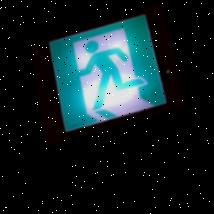emergency_exit: (47, 13, 168, 134)
